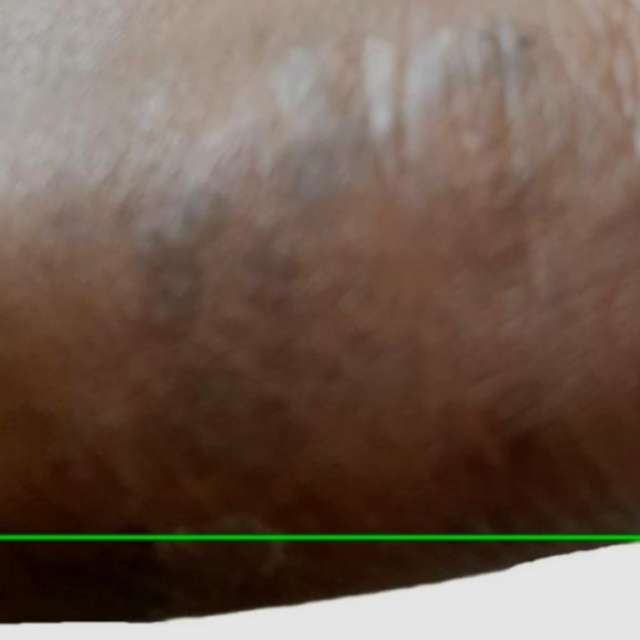Contact Dermatitis: (0, 537, 639, 639)
